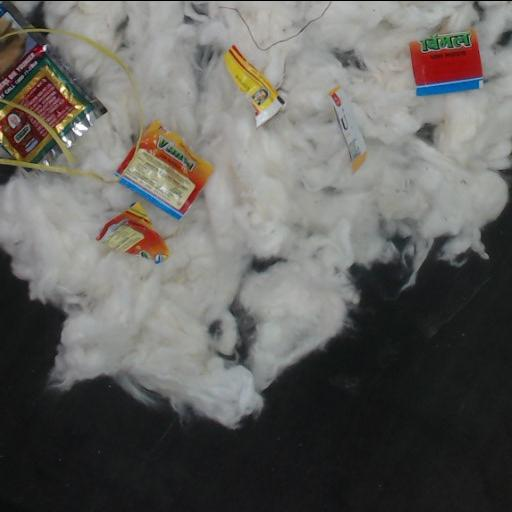conveyor belt: (0, 203, 511, 512)
cotton: (0, 1, 511, 428)
packet: (0, 1, 106, 171), (115, 122, 212, 218), (224, 46, 284, 126), (410, 31, 482, 95), (97, 203, 168, 263), (330, 88, 365, 168)
thread: (0, 25, 144, 149), (0, 98, 119, 183), (220, 1, 333, 51)
